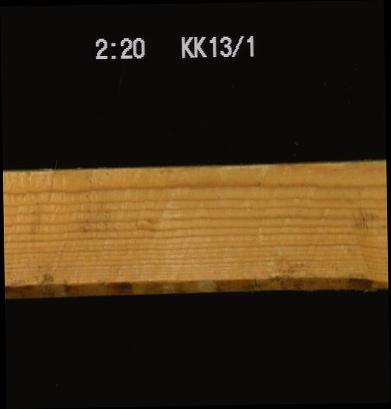wave: (4, 274, 386, 297)
